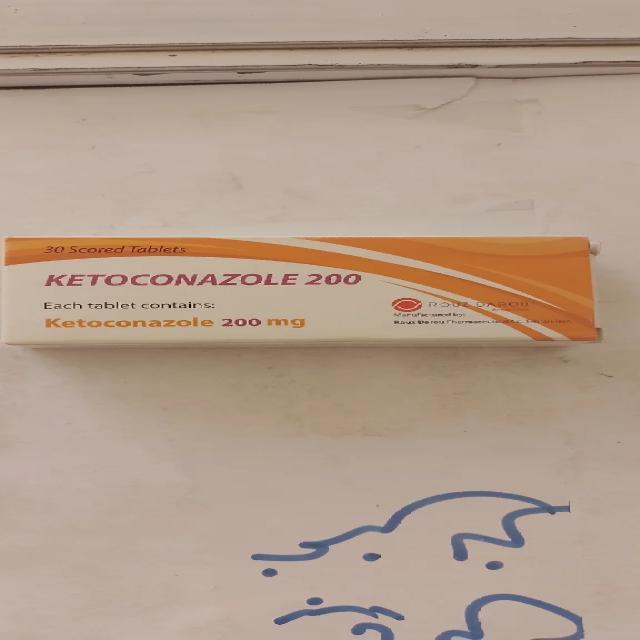drug-name: (45, 272, 361, 286)
